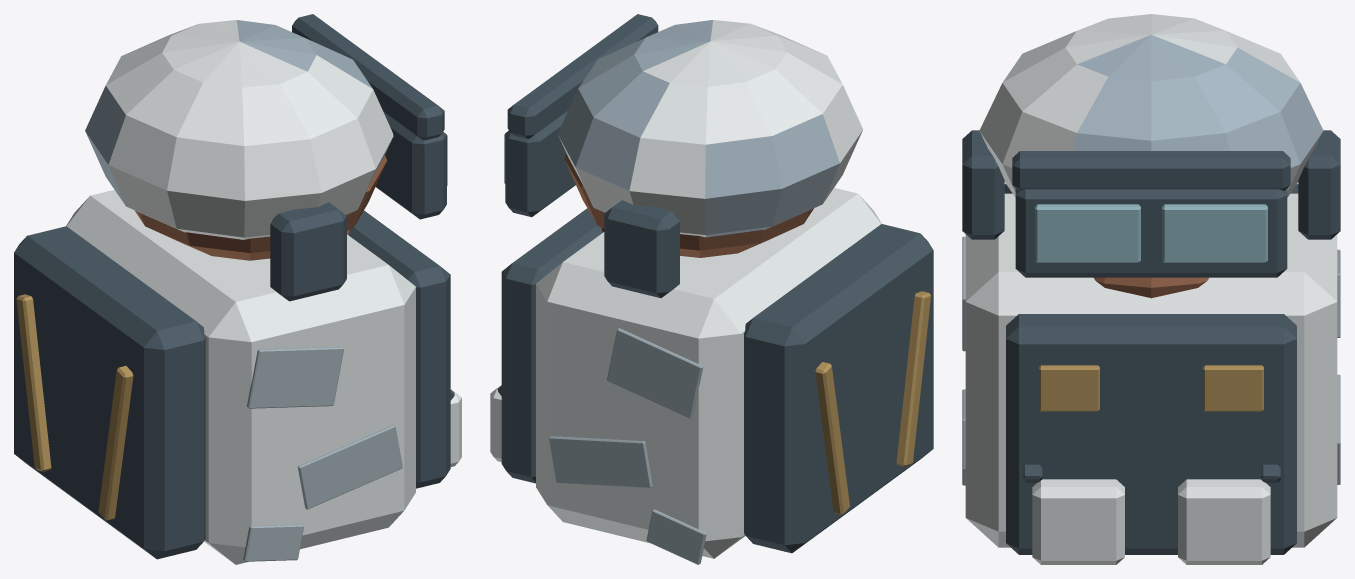
File: ranger-elite.polar-camo.glb
The picture shows the model from 3 angles, left to right: view 1: azimuth 30°, elevation 25°; view 2: azimuth 150°, elevation 25°; view 3: azimuth 270°, elevation 25°; orthographic projection. The views are drawn at different scales.
Visible parts, largest first — view 1: ranger-elite_polar-camo__main__torso_finish_e0e5e5_0.03, ranger-elite_polar-camo__main__torso_finish_485863_0.03, ranger-elite_polar-camo__main__head_finish_e0e5e5_0.03|finis, ranger-elite_polar-camo__main__head_finish_485863_0.03, ranger-elite_polar-camo__main__torso_finish_a0afb7_0.03, ranger-elite_polar-camo__main__torso_finish_b3945b_0.03, ranger-elite_polar-camo__main__head_finish_9c684e_0.03; view 2: ranger-elite_polar-camo__main__torso_finish_e0e5e5_0.03, ranger-elite_polar-camo__main__torso_finish_485863_0.03, ranger-elite_polar-camo__main__head_finish_e0e5e5_0.03|finis, ranger-elite_polar-camo__main__head_finish_485863_0.03, ranger-elite_polar-camo__main__torso_finish_a0afb7_0.03, ranger-elite_polar-camo__main__torso_finish_b3945b_0.03, ranger-elite_polar-camo__main__head_finish_9c684e_0.03; view 3: ranger-elite_polar-camo__main__torso_finish_e0e5e5_0.03, ranger-elite_polar-camo__main__torso_finish_485863_0.03, ranger-elite_polar-camo__main__head_finish_e0e5e5_0.03|finis, ranger-elite_polar-camo__main__head_finish_485863_0.03, ranger-elite_polar-camo__main__head_finish_91b6c0_0.03, ranger-elite_polar-camo__main__torso_finish_b3945b_0.03, ranger-elite_polar-camo__main__head_finish_9c684e_0.03, ranger-elite_polar-camo__main__torso_finish_a0afb7_0.03.
Part boxes in pixels (<box>): ranger-elite_polar-camo__main__torso_finish_e0e5e5_0.03: <box>66,189,461,564</box>; ranger-elite_polar-camo__main__torso_finish_485863_0.03: <box>14,210,454,559</box>; ranger-elite_polar-camo__main__head_finish_e0e5e5_0.03|finis: <box>85,20,393,239</box>; ranger-elite_polar-camo__main__head_finish_485863_0.03: <box>270,14,446,301</box>; ranger-elite_polar-camo__main__torso_finish_a0afb7_0.03: <box>243,346,402,561</box>; ranger-elite_polar-camo__main__torso_finish_b3945b_0.03: <box>16,294,133,520</box>; ranger-elite_polar-camo__main__head_finish_9c684e_0.03: <box>135,155,387,260</box>; ranger-elite_polar-camo__main__torso_finish_e0e5e5_0.03: <box>490,188,881,558</box>; ranger-elite_polar-camo__main__torso_finish_485863_0.03: <box>497,208,933,553</box>; ranger-elite_polar-camo__main__head_finish_e0e5e5_0.03|finis: <box>558,20,862,237</box>; ranger-elite_polar-camo__main__head_finish_485863_0.03: <box>505,14,679,298</box>; ranger-elite_polar-camo__main__torso_finish_a0afb7_0.03: <box>549,328,706,564</box>; ranger-elite_polar-camo__main__torso_finish_b3945b_0.03: <box>815,291,930,514</box>; ranger-elite_polar-camo__main__head_finish_9c684e_0.03: <box>564,154,813,257</box>; ranger-elite_polar-camo__main__torso_finish_e0e5e5_0.03: <box>965,193,1337,564</box>; ranger-elite_polar-camo__main__torso_finish_485863_0.03: <box>1004,184,1298,554</box>; ranger-elite_polar-camo__main__head_finish_e0e5e5_0.03|finis: <box>979,14,1323,197</box>; ranger-elite_polar-camo__main__head_finish_485863_0.03: <box>962,130,1340,277</box>; ranger-elite_polar-camo__main__head_finish_91b6c0_0.03: <box>1035,204,1267,262</box>; ranger-elite_polar-camo__main__torso_finish_b3945b_0.03: <box>1039,365,1263,411</box>; ranger-elite_polar-camo__main__head_finish_9c684e_0.03: <box>1094,277,1208,298</box>; ranger-elite_polar-camo__main__torso_finish_a0afb7_0.03: <box>962,236,1340,485</box>.
Bounding box in the file's own units: 31.1 × 39.5 × 28.6.
